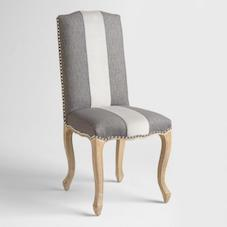chair: (34, 5, 186, 223)
